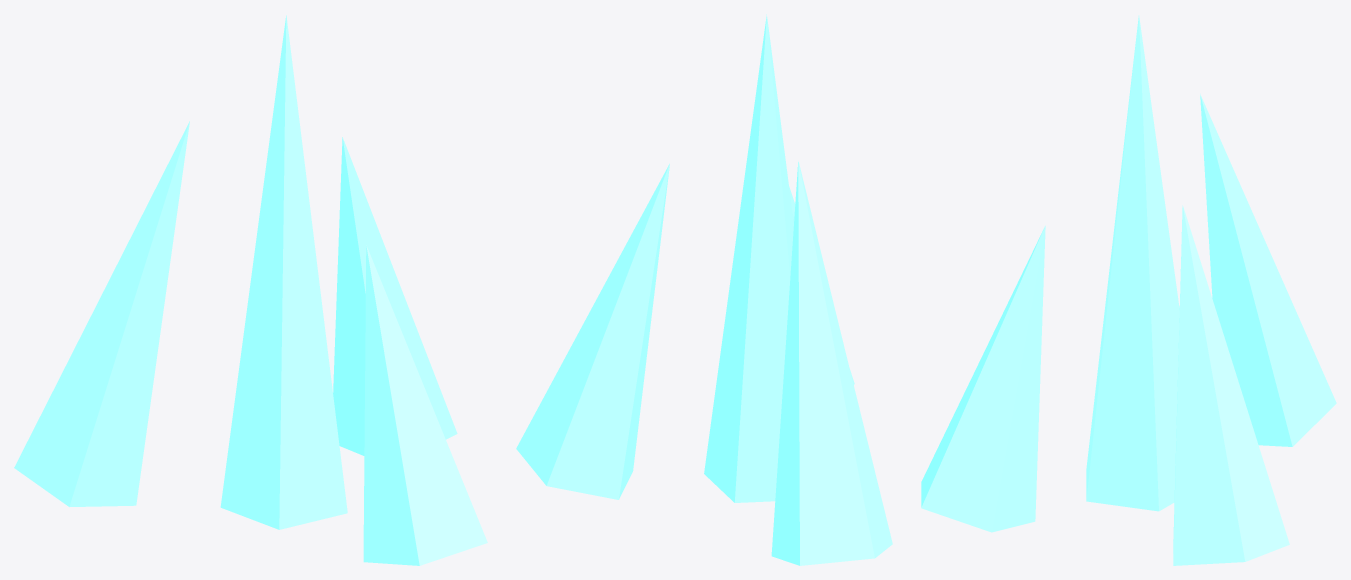
Rendered from crystal_cluster.glb.
3 renders of one model, left to right at view 1: azimuth 30°, elevation 25°; view 2: azimuth 150°, elevation 25°; view 3: azimuth 270°, elevation 25°, orthographic. The views are drawn at different scales.
Parts seen in each view (by area): view 1: CrystalShard0; view 2: CrystalShard0; view 3: CrystalShard0.
Boxes of the visible parts, left/top/right/bottom form: CrystalShard0: left=14, top=15, right=487, bottom=565; CrystalShard0: left=516, top=14, right=892, bottom=565; CrystalShard0: left=921, top=15, right=1336, bottom=565.
Size of the model in its own units: 1.37 by 1.63 by 1.28.
